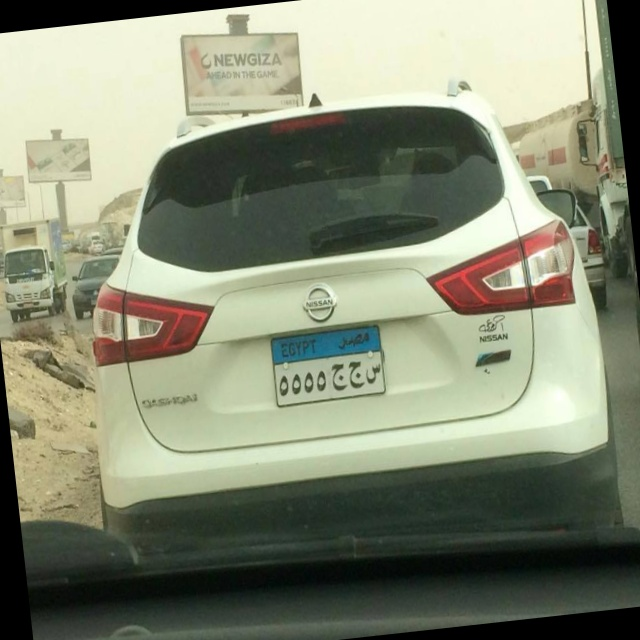License Plate: (267, 322, 390, 411)
